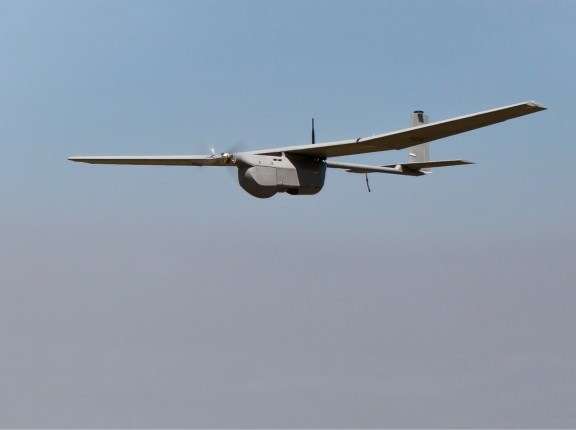maybay_khongnguoilai: (60, 97, 550, 202)
